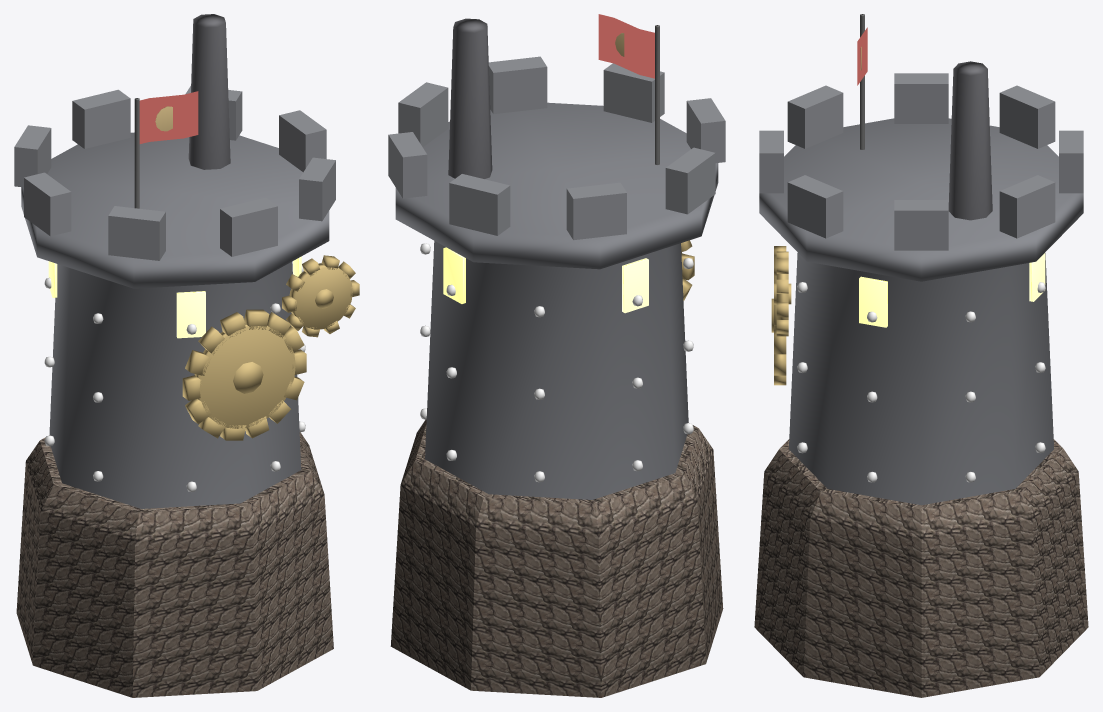
The model's file is watchtower.glb.
3 views of the same model, side by side, from view 1: azimuth 30°, elevation 25°; view 2: azimuth 150°, elevation 25°; view 3: azimuth 270°, elevation 25° (orthographic). The views are drawn at different scales.
Parts seen in each view (by area): view 1: Watchtower; view 2: Watchtower; view 3: Watchtower.
Boxes of the visible parts, <box> form: Watchtower: <box>14,14,359,697</box>; Watchtower: <box>388,14,725,697</box>; Watchtower: <box>754,14,1088,697</box>.
Size of the model in its own units: 6.8 by 13.2 by 6.8.
Materials: 9 (1 with a texture image).
